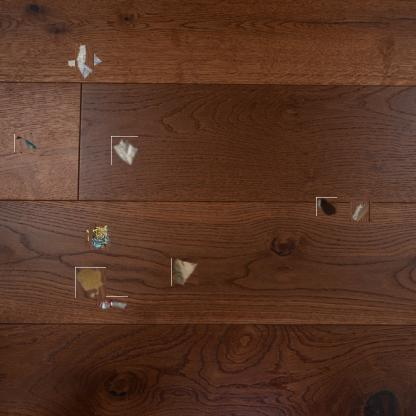dirty: (70, 47, 98, 75), (111, 136, 138, 165), (171, 258, 198, 286), (86, 226, 110, 249), (96, 296, 128, 311), (351, 201, 371, 222), (16, 133, 36, 154)
liquid: (75, 267, 106, 298), (316, 197, 337, 216)
